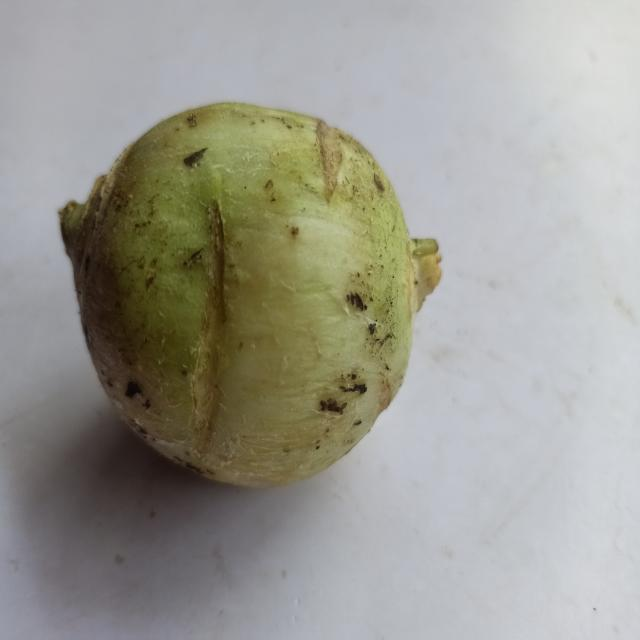Turnip: (37, 89, 495, 514)
